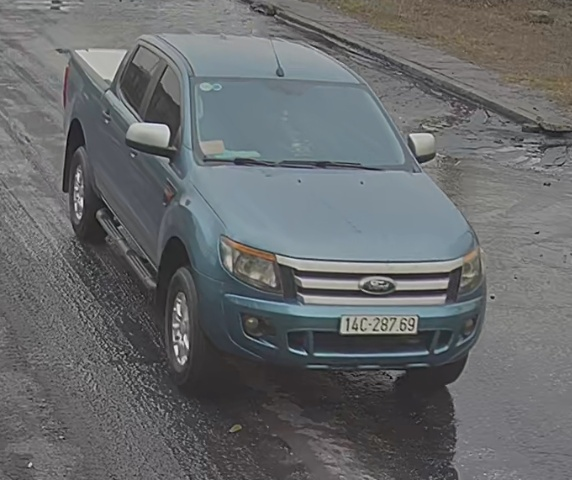vehicle plate: (334, 309, 425, 339)
